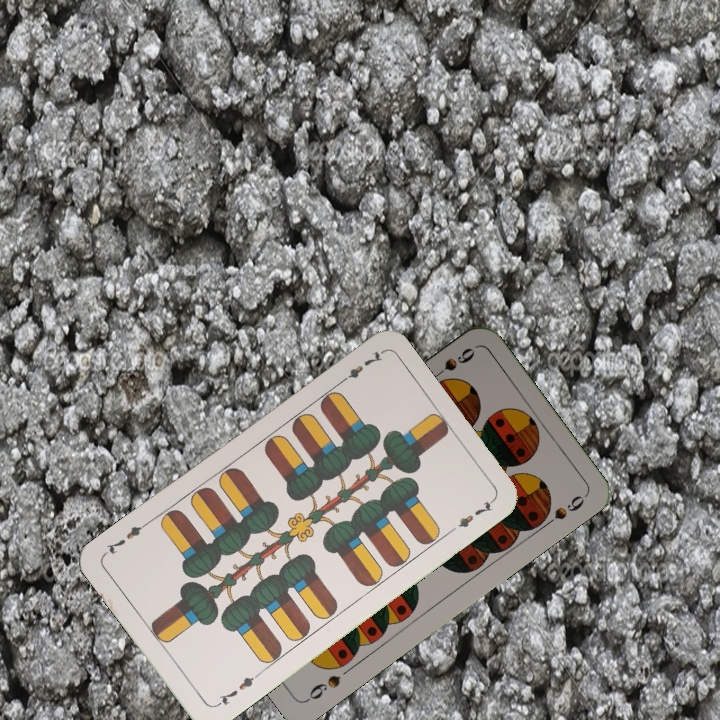E7: (334, 347, 386, 388), (212, 670, 263, 710)
S9: (426, 343, 478, 384), (302, 670, 343, 705)
